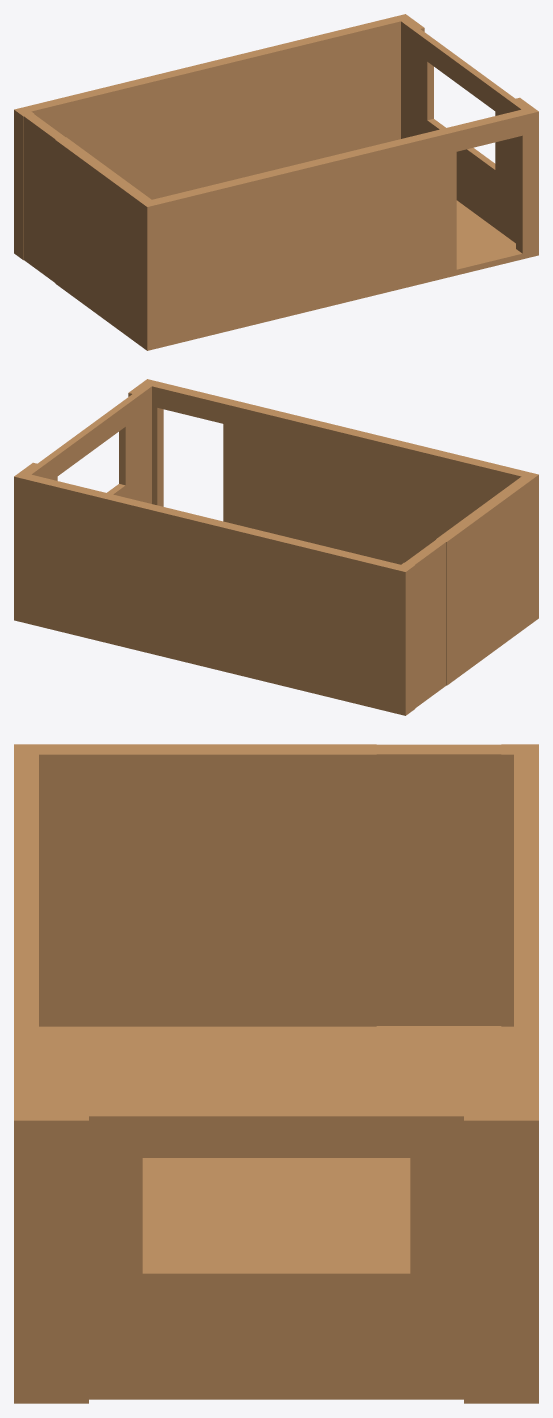
Rendered from one-room4.obj.
3 renders of one model, top to bottom at view 1: azimuth 30°, elevation 25°; view 2: azimuth 150°, elevation 25°; view 3: azimuth 270°, elevation 25°, orthographic. The views are drawn at different scales.
Visible parts, largest first — view 1: 본체1, 본체2; view 2: 본체1, 본체2; view 3: 본체1, 본체2.
Boxes of the visible parts, left/top/right/bottom form: 본체1: left=14, top=14, right=538, bottom=344; 본체2: left=14, top=200, right=538, bottom=350; 본체1: left=14, top=379, right=538, bottom=709; 본체2: left=14, top=613, right=538, bottom=715; 본체1: left=14, top=744, right=538, bottom=1392; 본체2: left=14, top=1026, right=538, bottom=1403.
Bounding box in the file's own units: 712 × 250 × 420.
